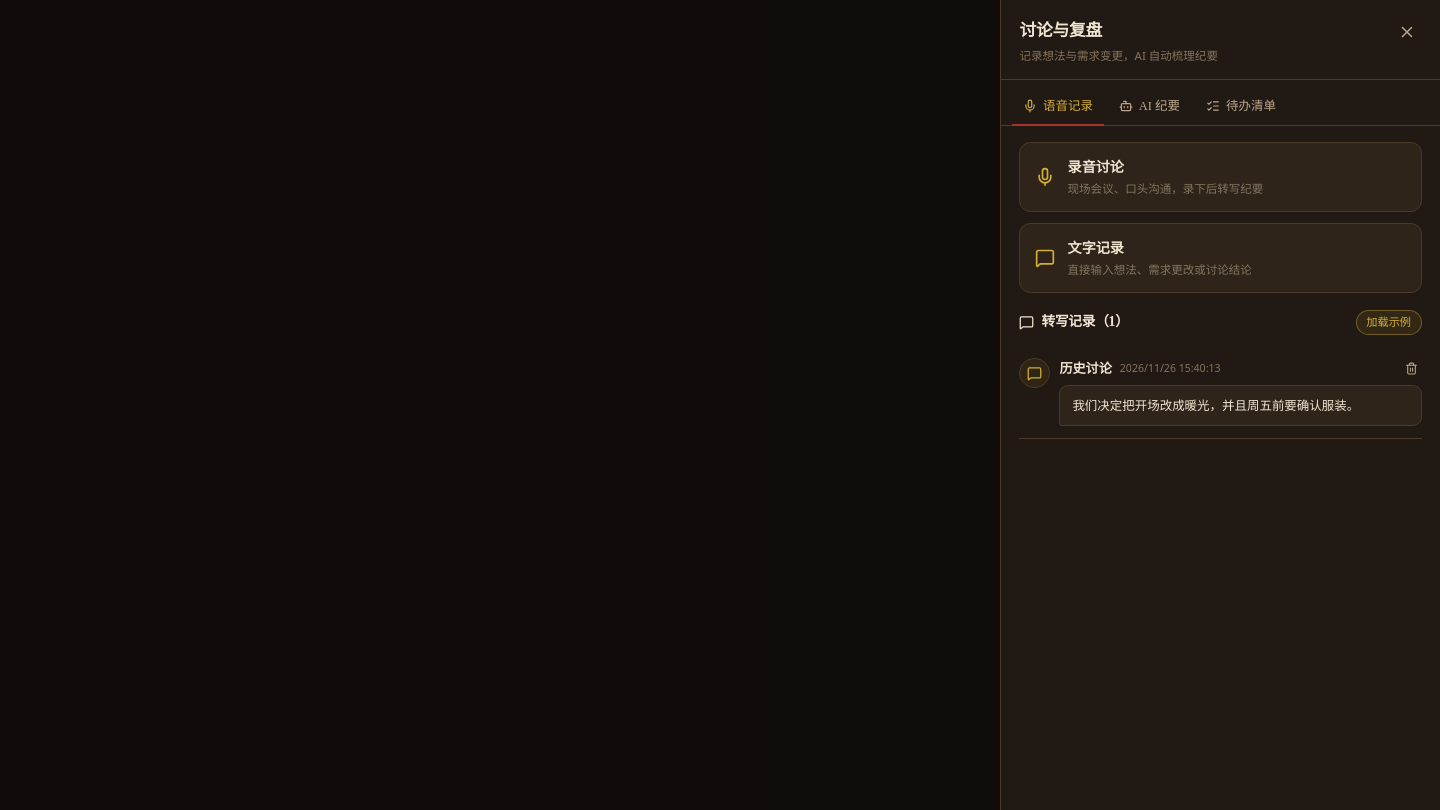
Test: DiscussionPanel 抽屉 › 历史纪要分别在 AI 纪要与待办 Tab 渲染
Expected: the text "历史讨论" is shown, x1=1059 y1=359 x2=1112 y2=378
Expected: the text "我们决定把开场改成暖光，并且周五前要确认服装。" is shown, x1=1059 y1=385 x2=1422 y2=426
Click the tab "AI 纪要": coordinates (1150, 107) x1=1108 y1=89 x2=1191 y2=126
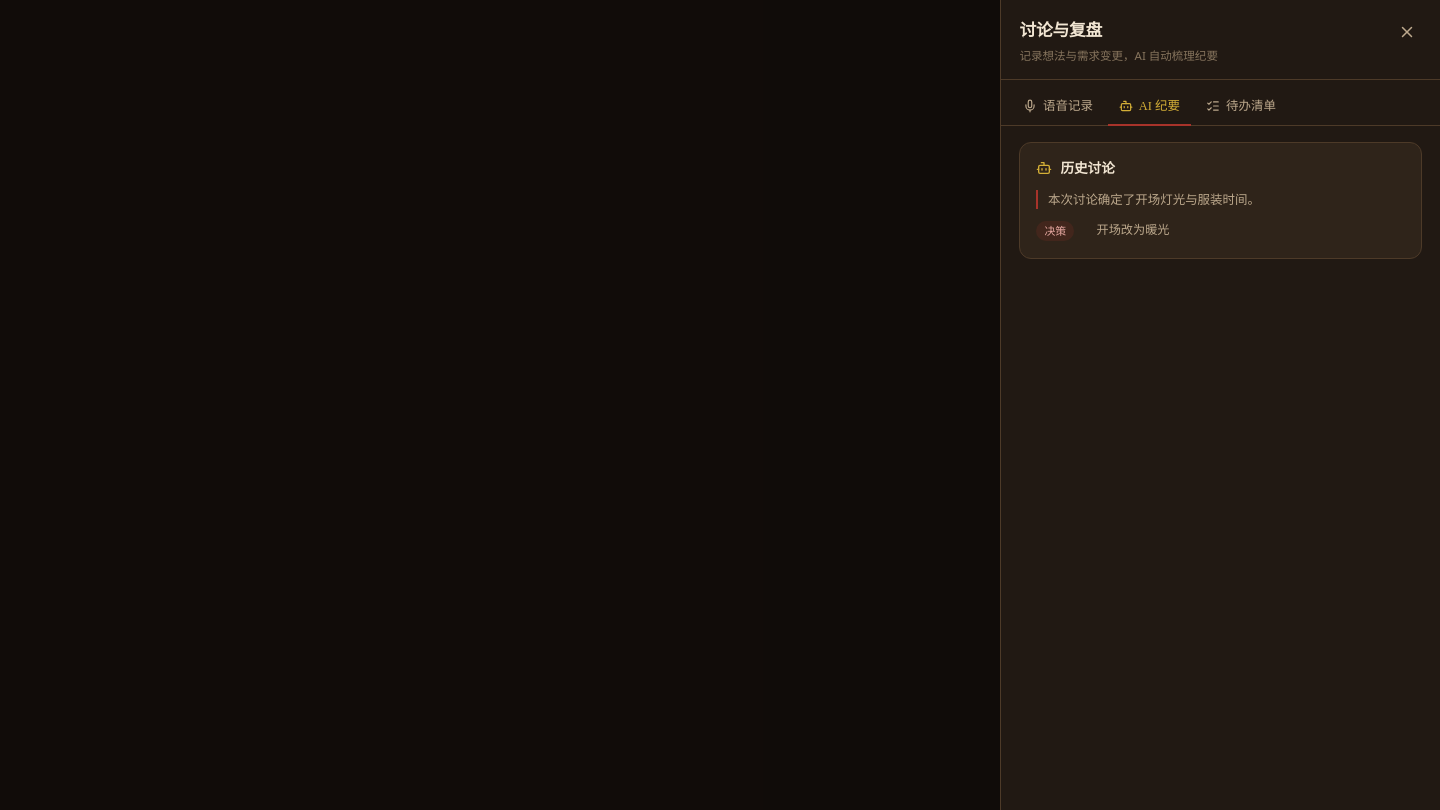
Now the list item "开场改为暖光" is shown, box x1=1096 y1=221 x2=1169 y2=238
Click the tab "待办清单": coordinates (1241, 107) x1=1195 y1=89 x2=1287 y2=126
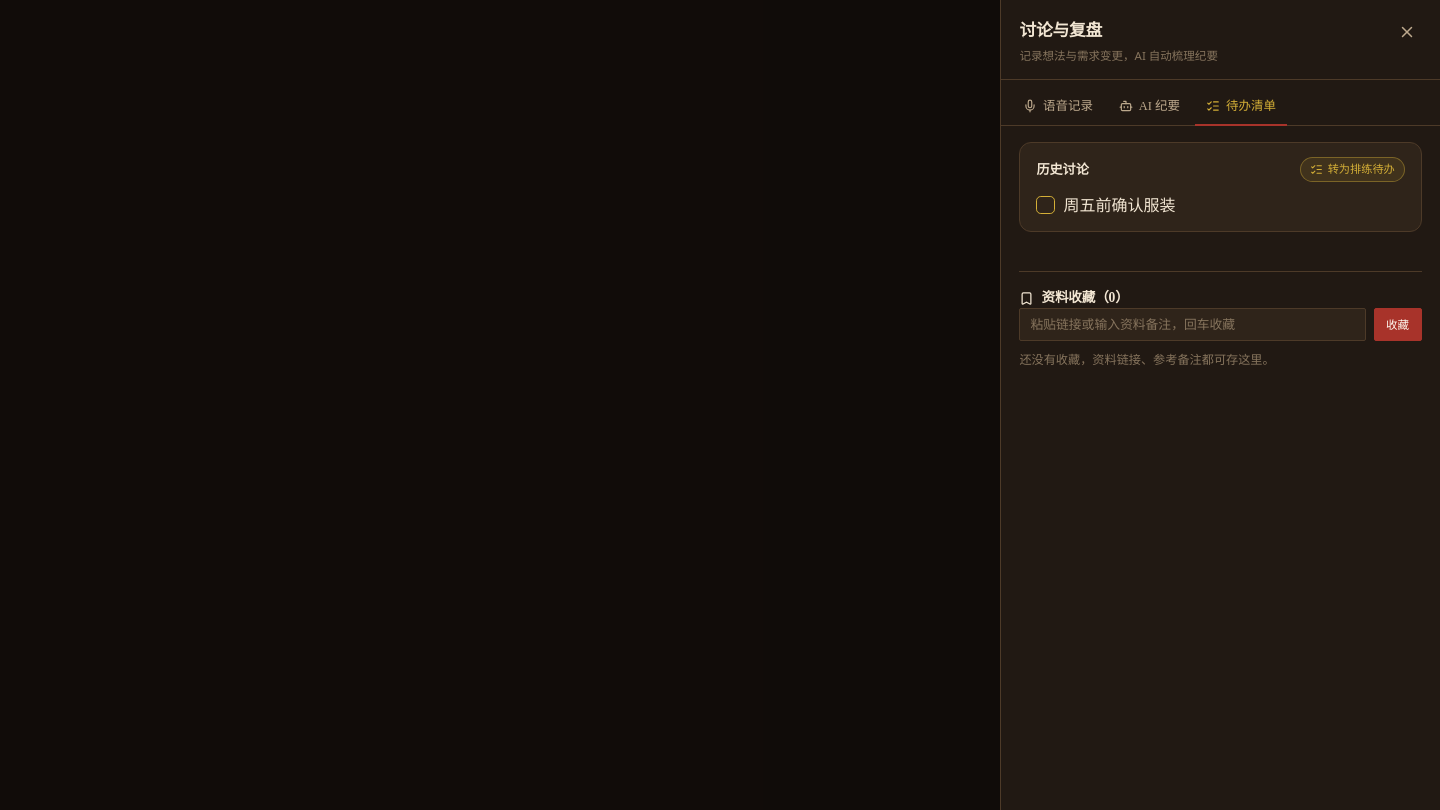
Now the text "周五前确认服装" is shown, box x1=1064 y1=193 x2=1176 y2=217
